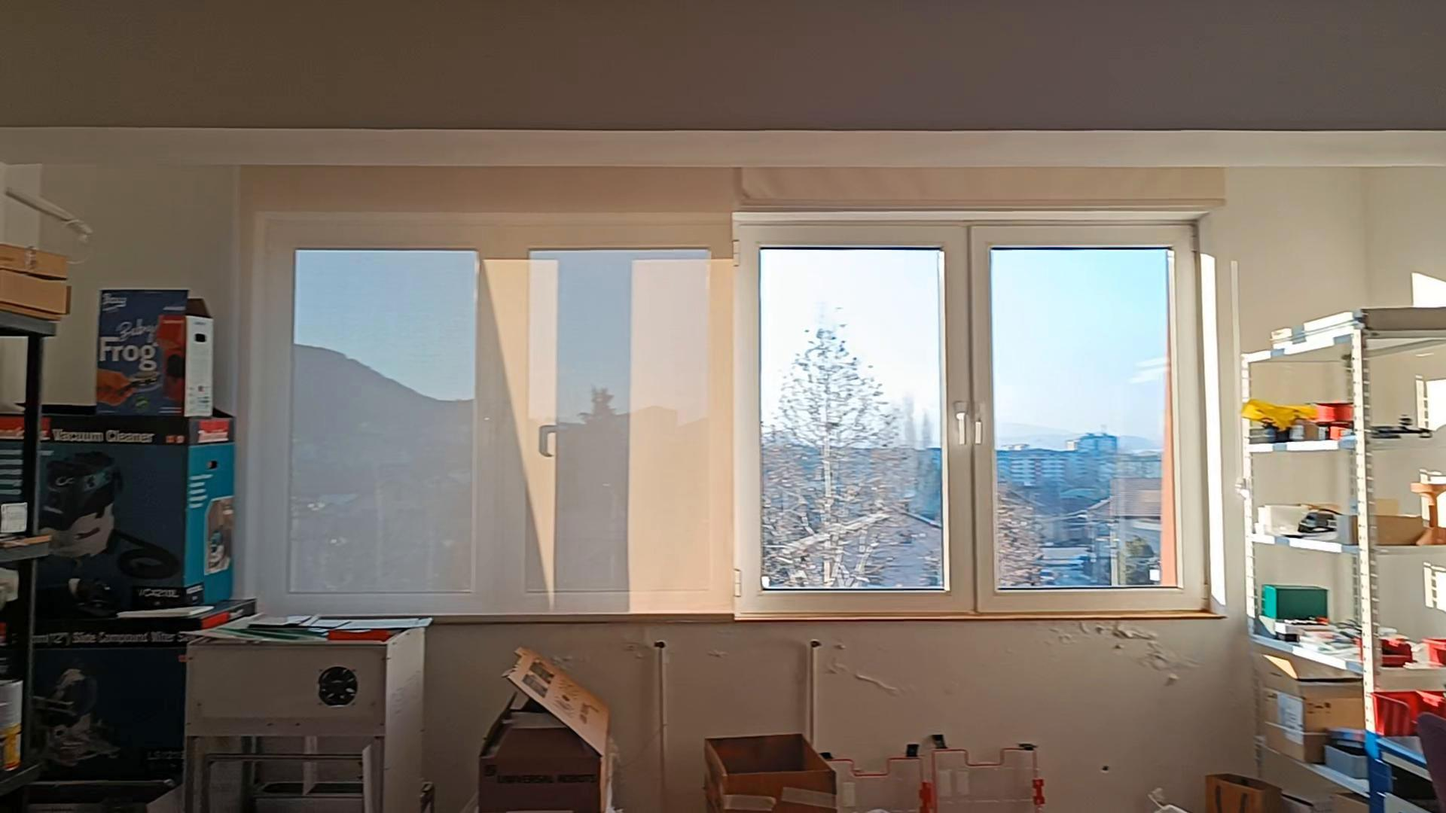wall: (8, 9, 1445, 334), (659, 629, 1251, 805), (434, 640, 652, 778)
